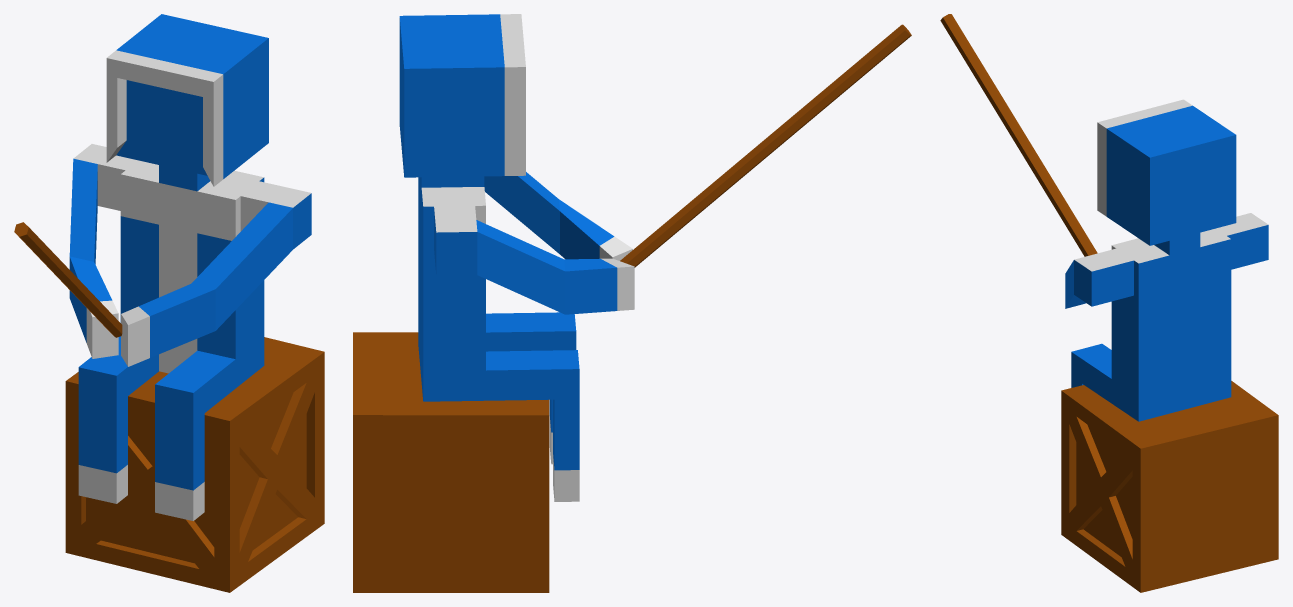
File: Man.fbx
3 views of the same model, side by side, from view 1: azimuth 30°, elevation 25°; view 2: azimuth 150°, elevation 25°; view 3: azimuth 270°, elevation 25° (orthographic). The views are drawn at different scales.
Visible parts, largest first — view 1: Man, Crate, Rod; view 2: Man, Crate, Rod; view 3: Man, Crate, Rod.
Part boxes in pixels (x1,y1,x2,y2): Man: (69, 14, 311, 520); Crate: (65, 337, 324, 592); Rod: (14, 222, 122, 337); Man: (399, 14, 634, 501); Crate: (353, 332, 549, 592); Rod: (620, 24, 911, 267); Man: (1065, 99, 1268, 421); Crate: (1061, 381, 1278, 592); Rod: (940, 14, 1097, 256).
Size of the model in its own units: 366 by 406 by 300.
